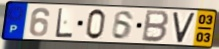0: (85, 8, 107, 40)
6: (110, 10, 136, 40), (28, 7, 51, 38)
B: (140, 9, 172, 44)
L: (55, 7, 74, 39)
V: (172, 11, 197, 44)
